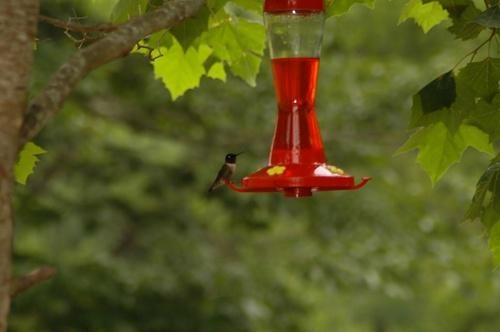bird: (210, 151, 245, 193)
